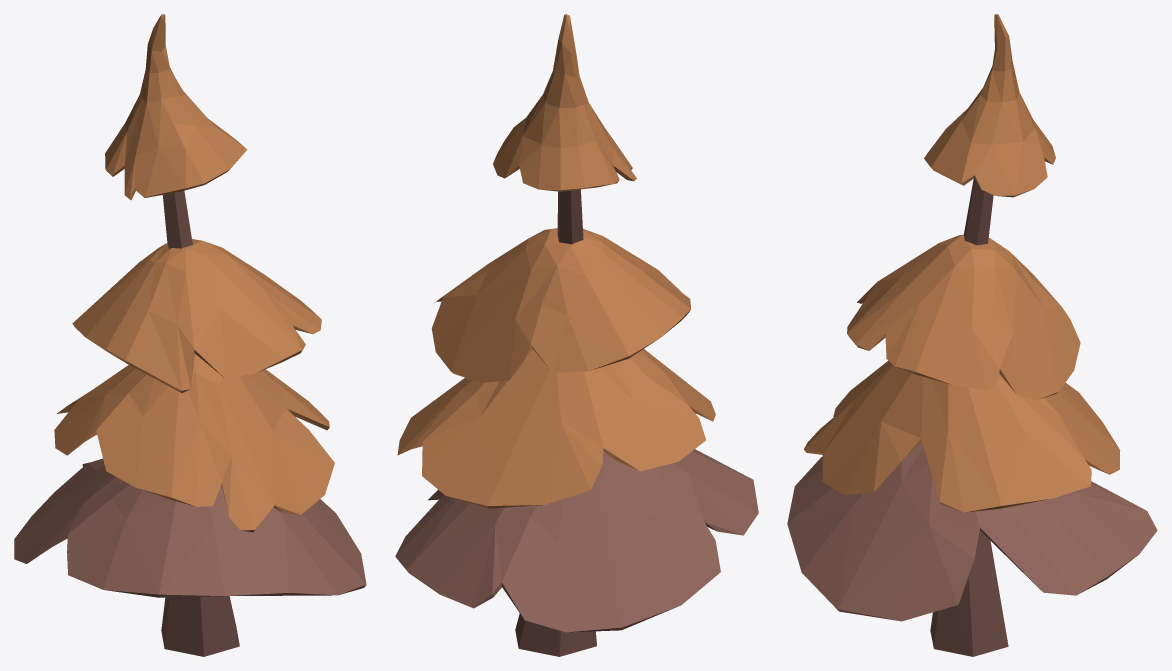
File: PineTree_Autumn_2.lod1.glb
The picture shows the model from 3 angles, left to right: view 1: azimuth 30°, elevation 25°; view 2: azimuth 150°, elevation 25°; view 3: azimuth 270°, elevation 25°; orthographic projection. The views are drawn at different scales.
Visible parts, largest first — view 1: PineTree_Autumn_2; view 2: PineTree_Autumn_2; view 3: PineTree_Autumn_2.
Boxes of the visible parts, x1,y1,x2,y2 form: PineTree_Autumn_2: (14, 14, 366, 656); PineTree_Autumn_2: (395, 14, 758, 656); PineTree_Autumn_2: (787, 14, 1157, 656).
Bounding box in the file's own units: 1.79 × 3.56 × 1.95.
